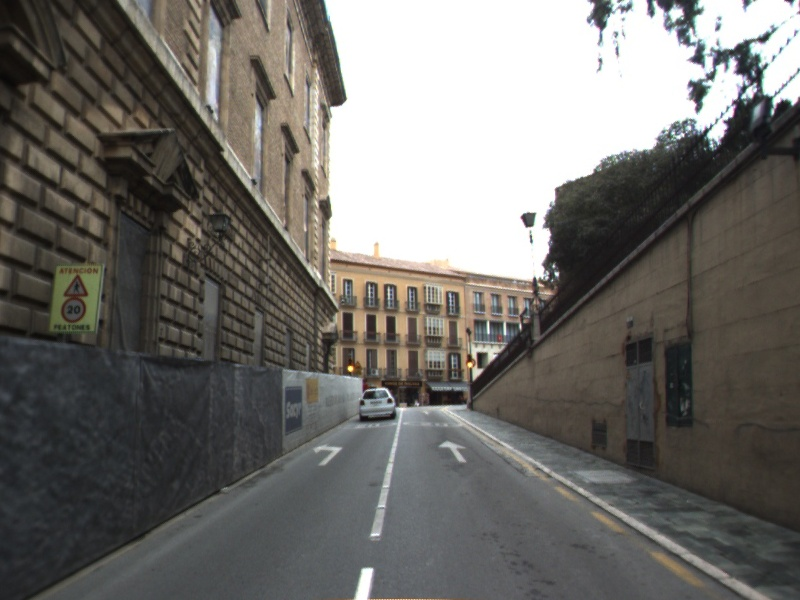LEFT: (310, 441, 345, 467)
STRAIGHT: (436, 438, 469, 464)
